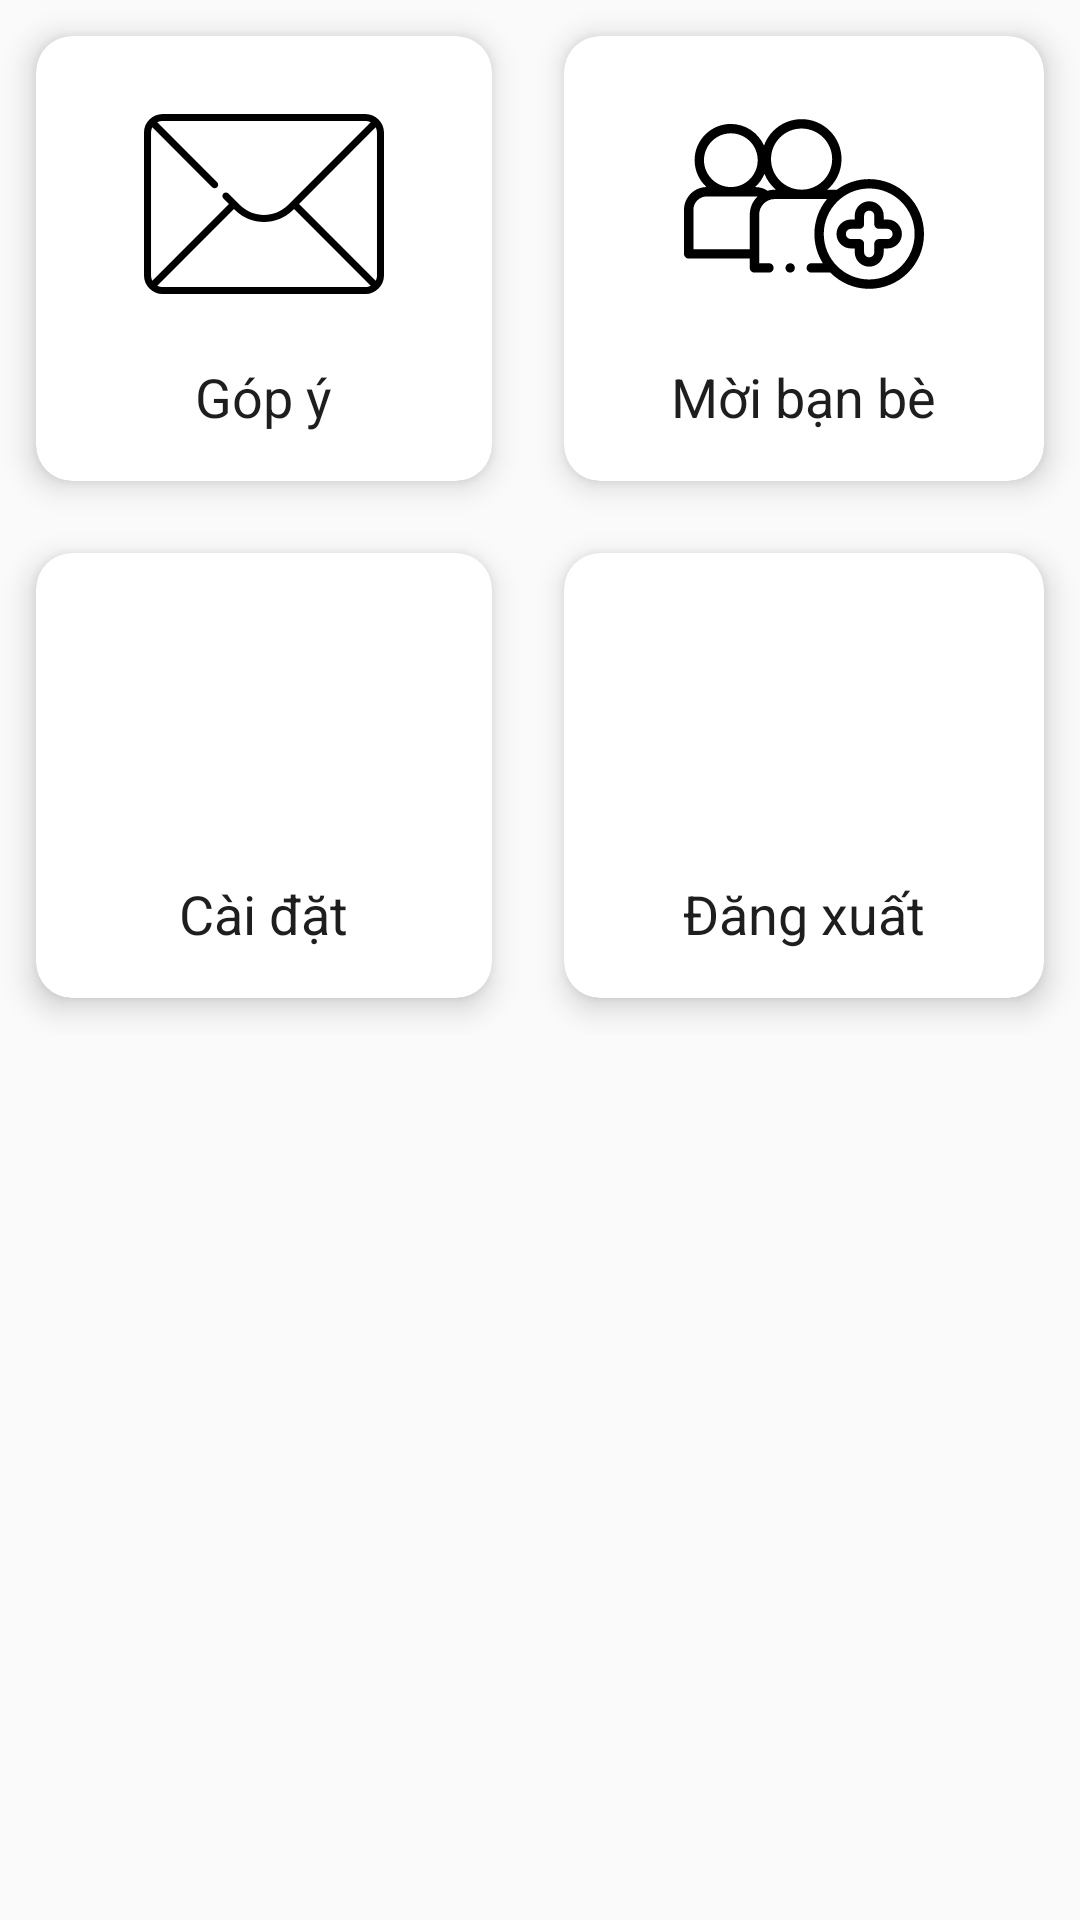

Point at icon controls on the screen. Image size 1080x1920, points as (x=x, y=y).
letter: (x=264, y=204)
